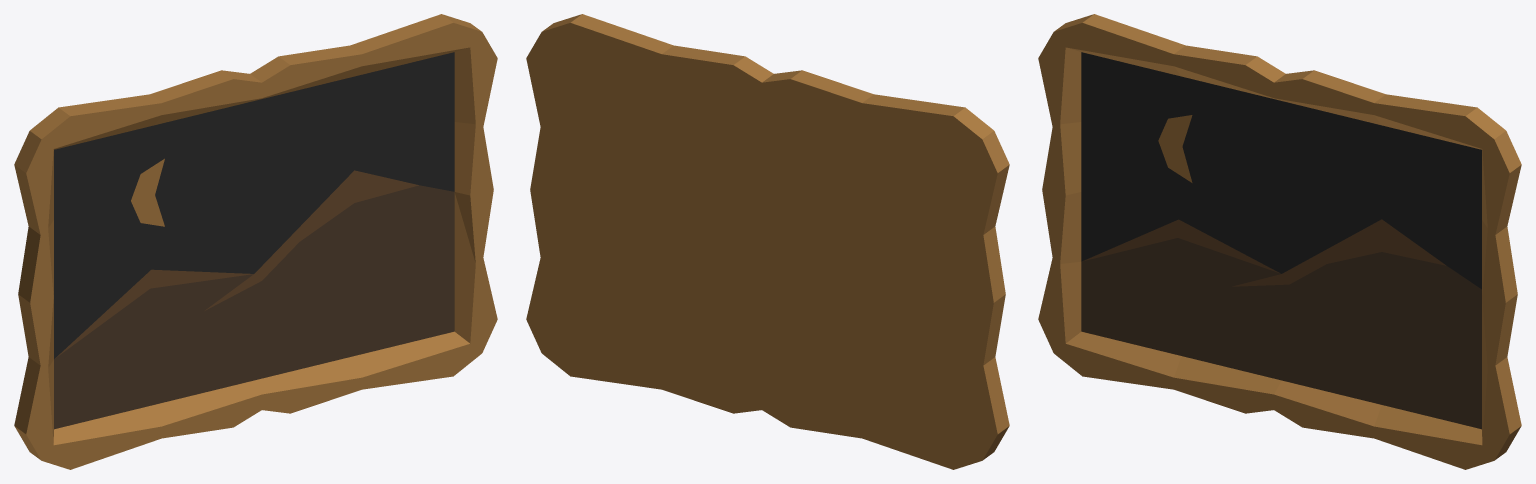
The model's file is fantasy_picture-frame.fbx.
The picture shows the model from 3 angles, left to right: view 1: azimuth 30°, elevation 25°; view 2: azimuth 150°, elevation 25°; view 3: azimuth 330°, elevation 25°; orthographic projection.
Visible parts, largest first — view 1: fantasy_picture_frame; view 2: fantasy_picture_frame; view 3: fantasy_picture_frame.
Part boxes in pixels (left/top/right/bottom): fantasy_picture_frame: left=14, top=14, right=497, bottom=469; fantasy_picture_frame: left=526, top=14, right=1009, bottom=469; fantasy_picture_frame: left=1038, top=14, right=1521, bottom=469.
Size of the model in its own units: 200 by 143 by 8.81.
